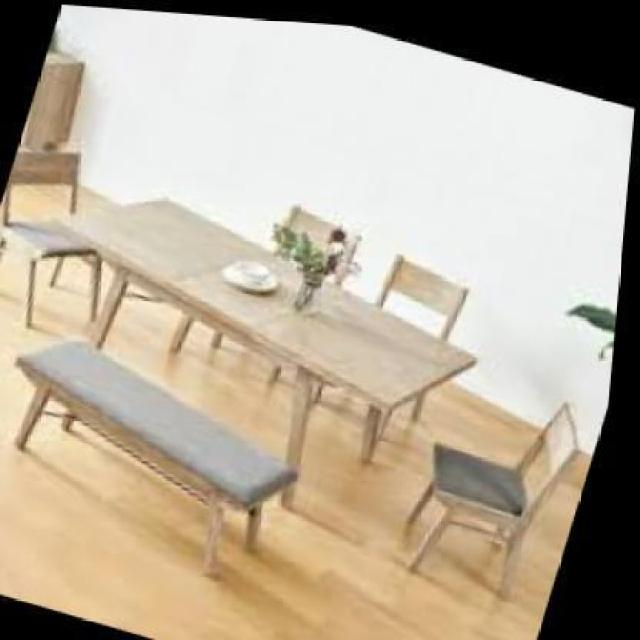tables: (54, 194, 478, 511)
